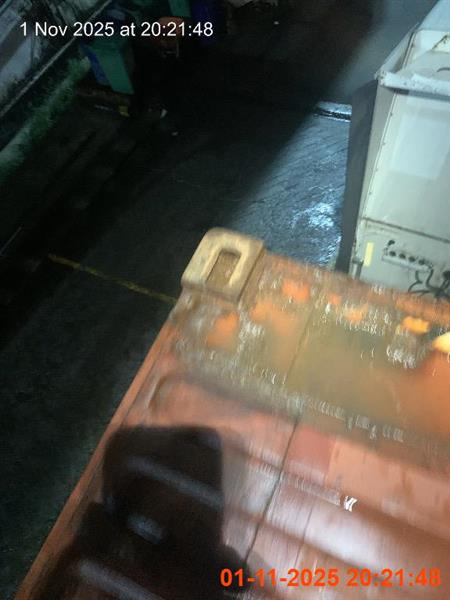dent: (14, 224, 449, 599)
